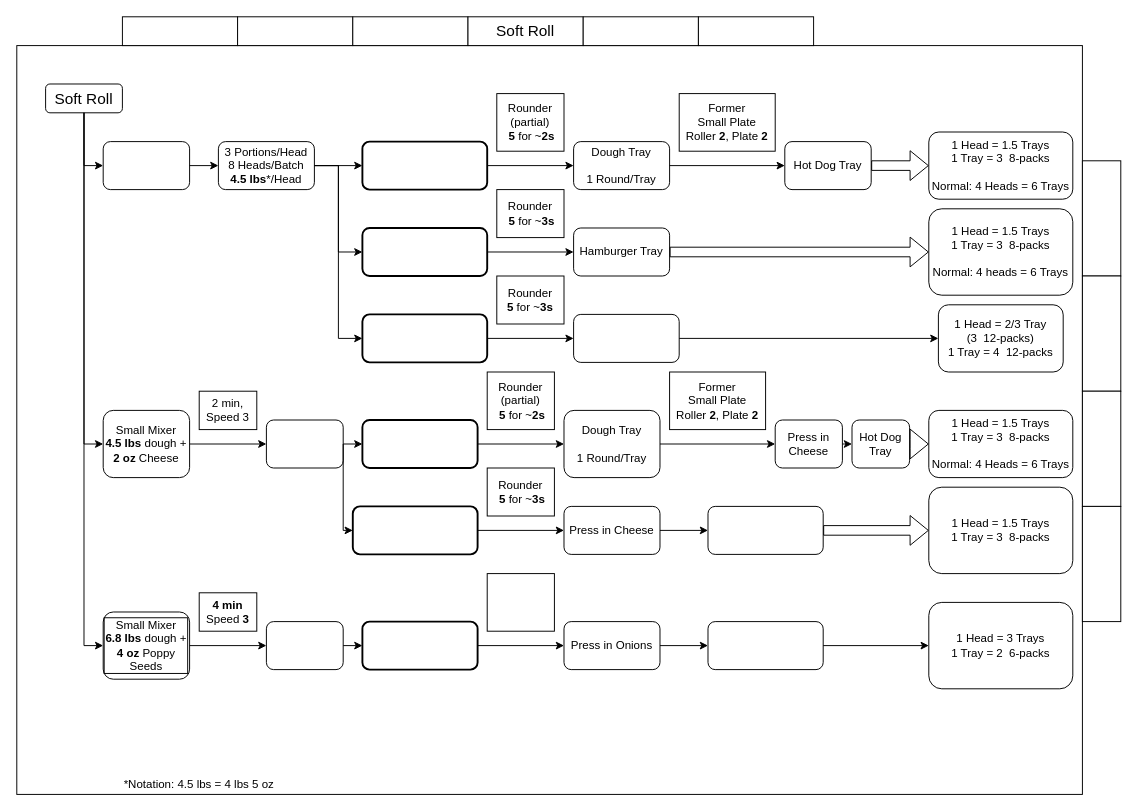
Image size: 1138x811. Some labels were removed from this diagram. The centre of each missing label's shape, as x and y in pixels:
1 Head 4.5 lbs: (x=304, y=443)
1 Head 6.8 lbs: (x=304, y=645)
Butter-top Buns: (x=424, y=338)
Cheese Hamburger Buns: (x=414, y=530)
Cheese Hamburger Tray (heavily oiled): (x=765, y=529)
Cheese Hot Dogs: (x=419, y=443)
Hamburger buns: (x=424, y=251)
Hot Dog Buns: (x=424, y=165)
Poppy Seed and Onion Buns: (x=419, y=645)
Portioner: Bun Head 35 lbs: (x=146, y=165)
Processes: (x=1101, y=218)
Rounder 8 for ~ 8s: (x=520, y=602)
Screen Tray 6 x 8: (x=626, y=337)
Screen Trays 3 x 4: (x=765, y=645)
